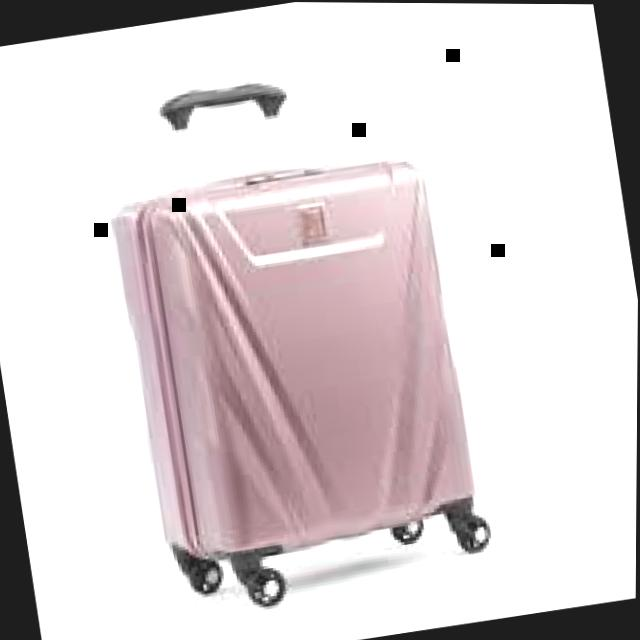luggage: (96, 137, 490, 580)
